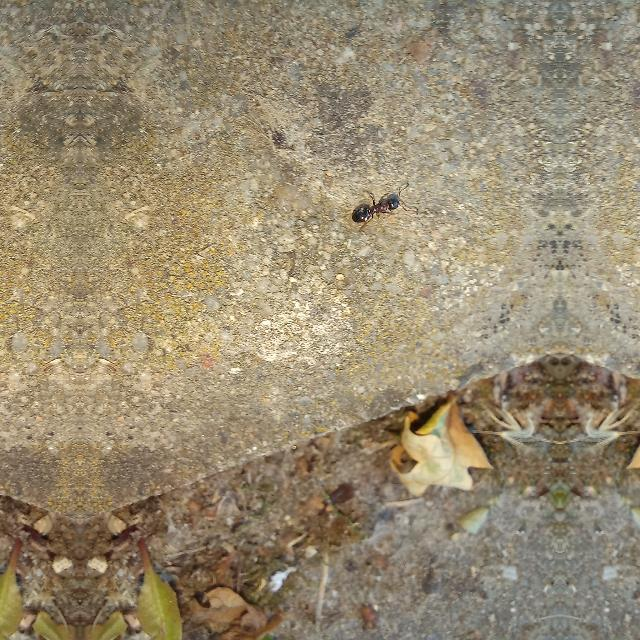Dolichoderus: (343, 174, 411, 232)
